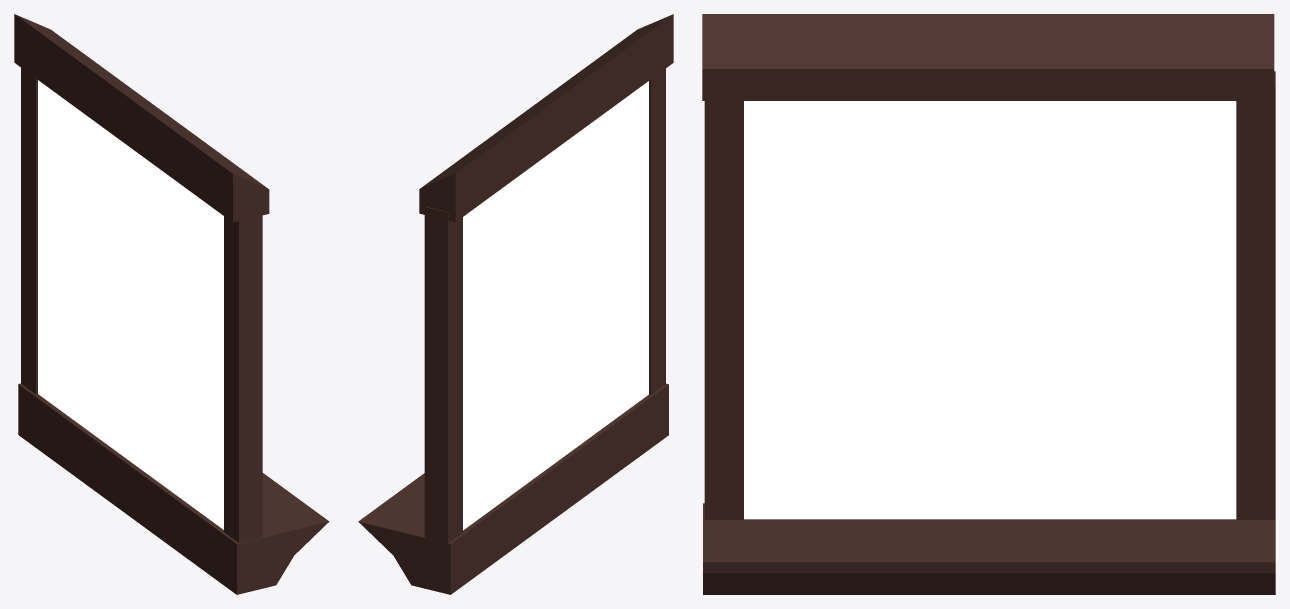
The model's file is windowFULL.glb.
The picture shows the model from 3 angles, left to right: view 1: azimuth 30°, elevation 25°; view 2: azimuth 150°, elevation 25°; view 3: azimuth 270°, elevation 25°; orthographic projection. The views are drawn at different scales.
Parts seen in each view (by area): view 1: Cube.017; view 2: Cube.017; view 3: Cube.017.
Part boxes in pixels (x1,y1,x2,y2): Cube.017: [14, 14, 329, 594]; Cube.017: [358, 14, 673, 594]; Cube.017: [702, 14, 1275, 594].
Bounding box in the file's own units: 1.85 × 7.69 × 7.22.
